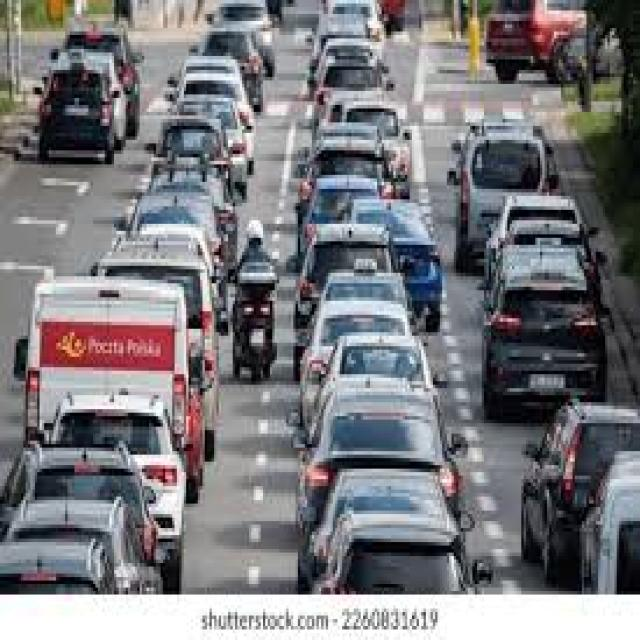high_traffic: (14, 15, 624, 581)
